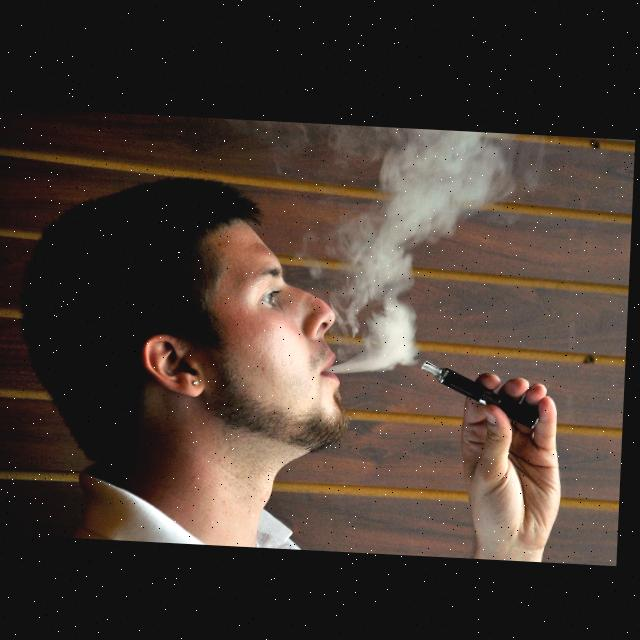vape: (422, 355, 546, 435)
